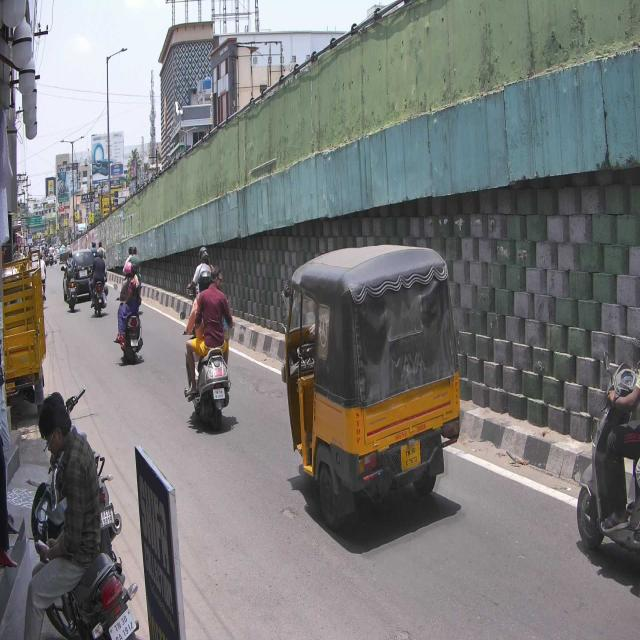double_rider: (180, 265, 234, 430)
